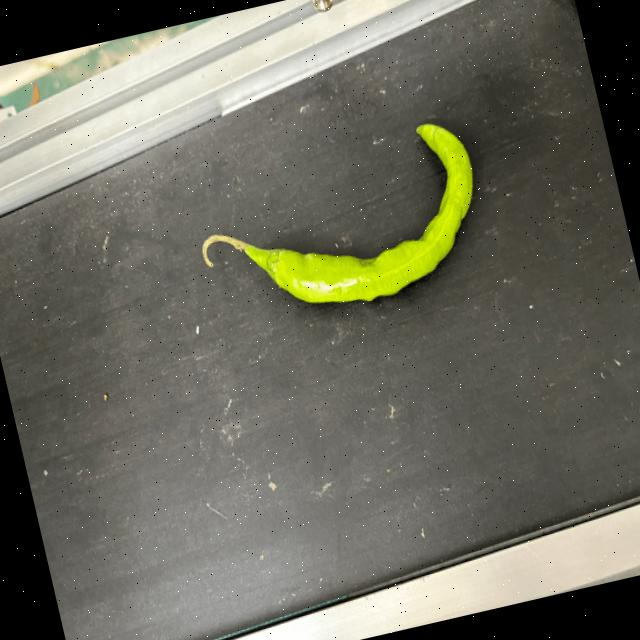chili: (262, 122, 475, 305)
